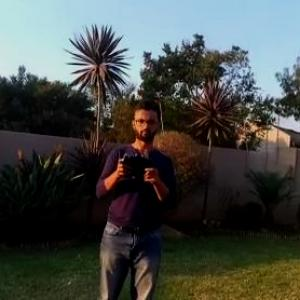follow: (87, 88, 184, 299)
